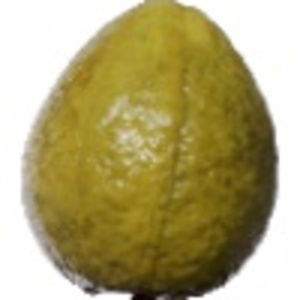goiaba: (20, 1, 281, 297)
